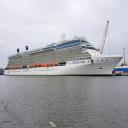cruises: (4, 34, 125, 79)
